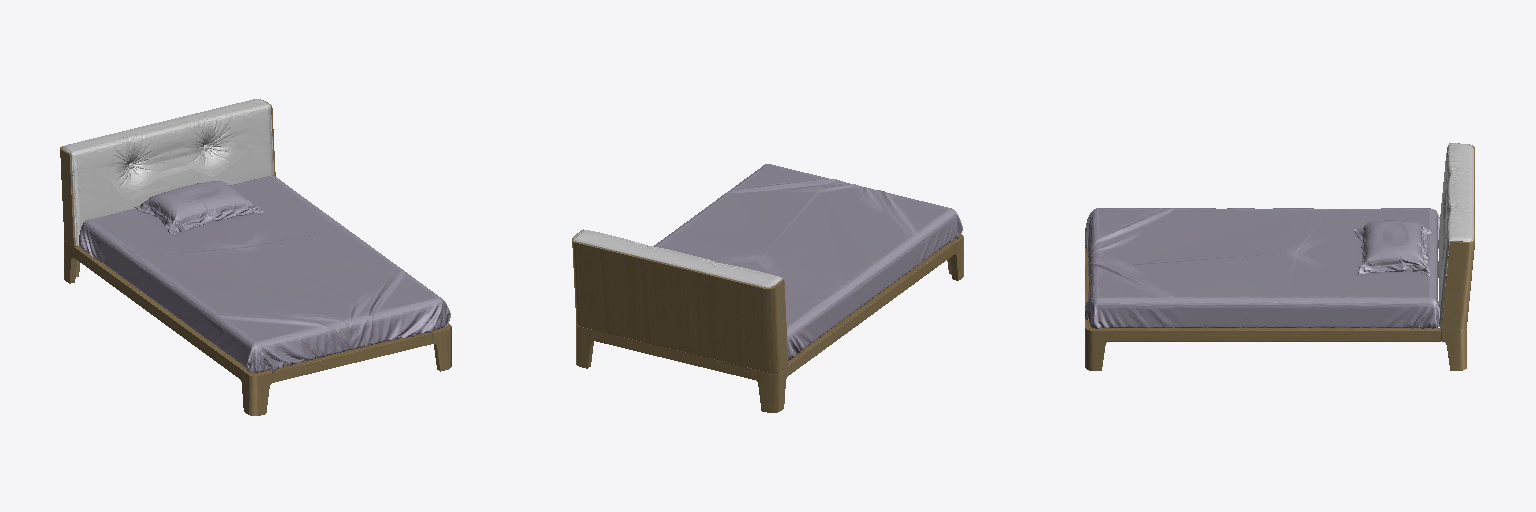
3 views of the same model, side by side, from view 1: azimuth 30°, elevation 25°; view 2: azimuth 150°, elevation 25°; view 3: azimuth 270°, elevation 25° (orthographic).
Visible parts, largest first — view 1: solid_001, solid_003, solid_004; view 2: solid_001, solid_004, solid_003; view 3: solid_001, solid_004, solid_003.
Part boxes in pixels (left/top/right/bottom): solid_001: left=79, top=175, right=450, bottom=372; solid_003: left=62, top=99, right=273, bottom=245; solid_004: left=60, top=99, right=451, bottom=415; solid_001: left=654, top=164, right=962, bottom=360; solid_004: left=572, top=230, right=963, bottom=412; solid_003: left=574, top=229, right=782, bottom=287; solid_001: left=1085, top=208, right=1439, bottom=328; solid_004: left=1085, top=143, right=1474, bottom=370; solid_003: left=1439, top=143, right=1473, bottom=328.
Bounding box in the file's own units: 1.37 × 0.8461 × 2.28.
Materials: 1 (1 with a texture image).